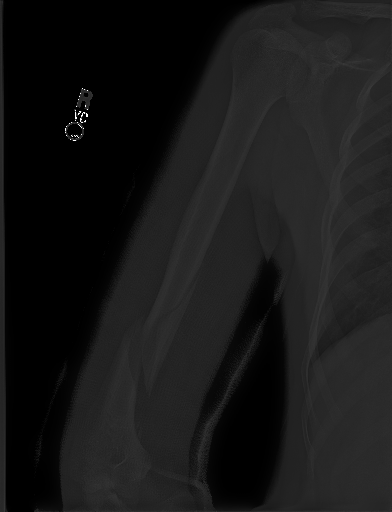fracture: (122, 280, 178, 400)
